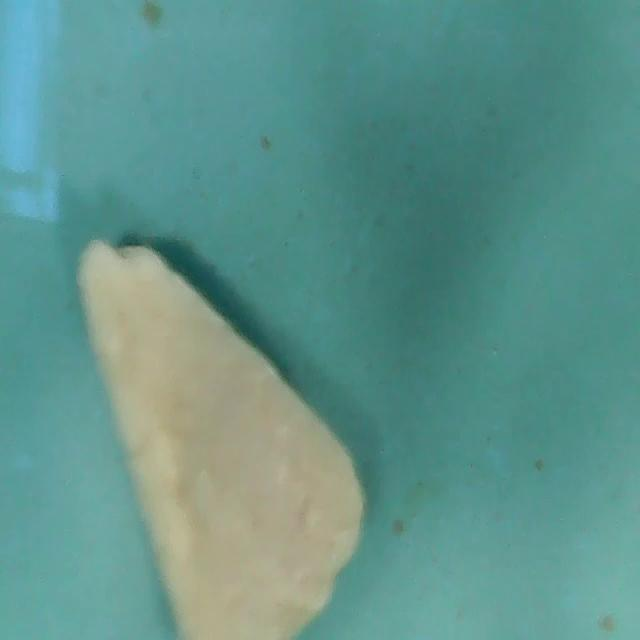rock: (75, 226, 373, 640)
